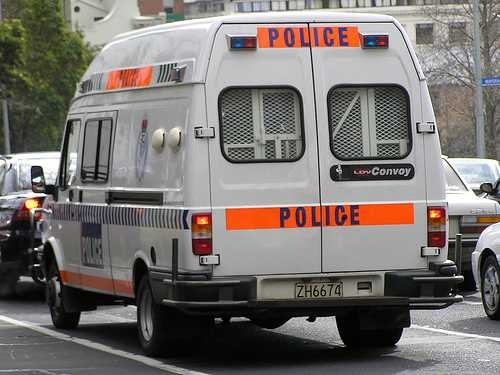Police Van: (18, 11, 500, 367)
